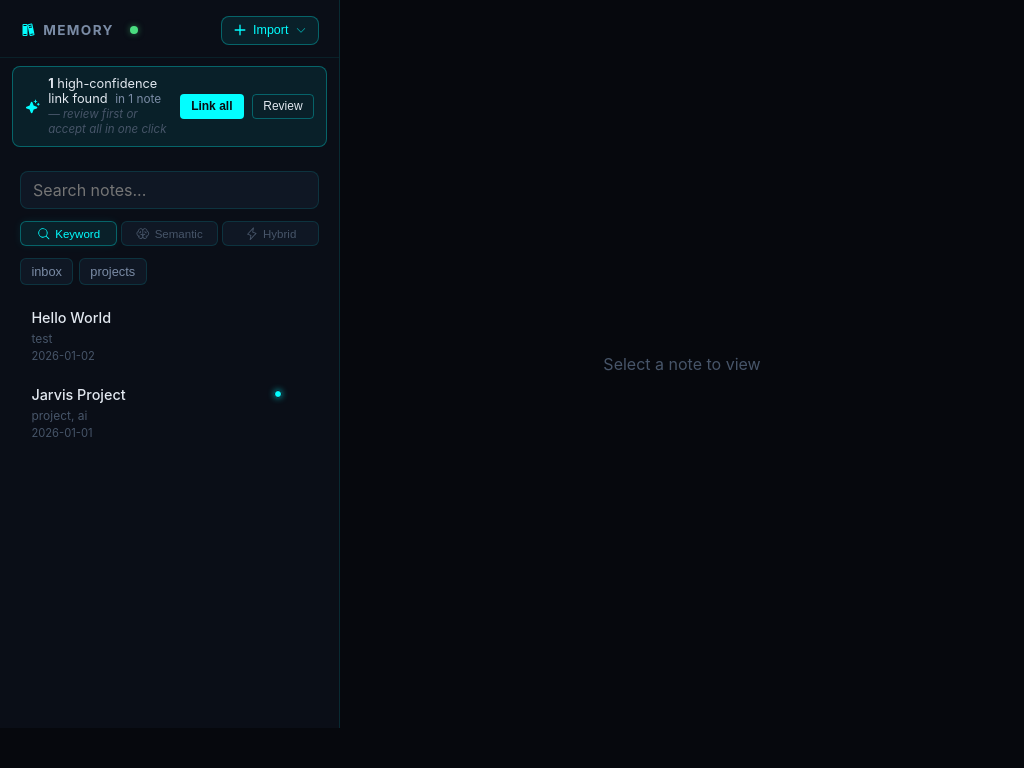
Test case: pages/memory.vue › opens the first pending Smart Connect note from the bulk review banner
Click the button "Review" at (283, 106), box [252,94,314,119]
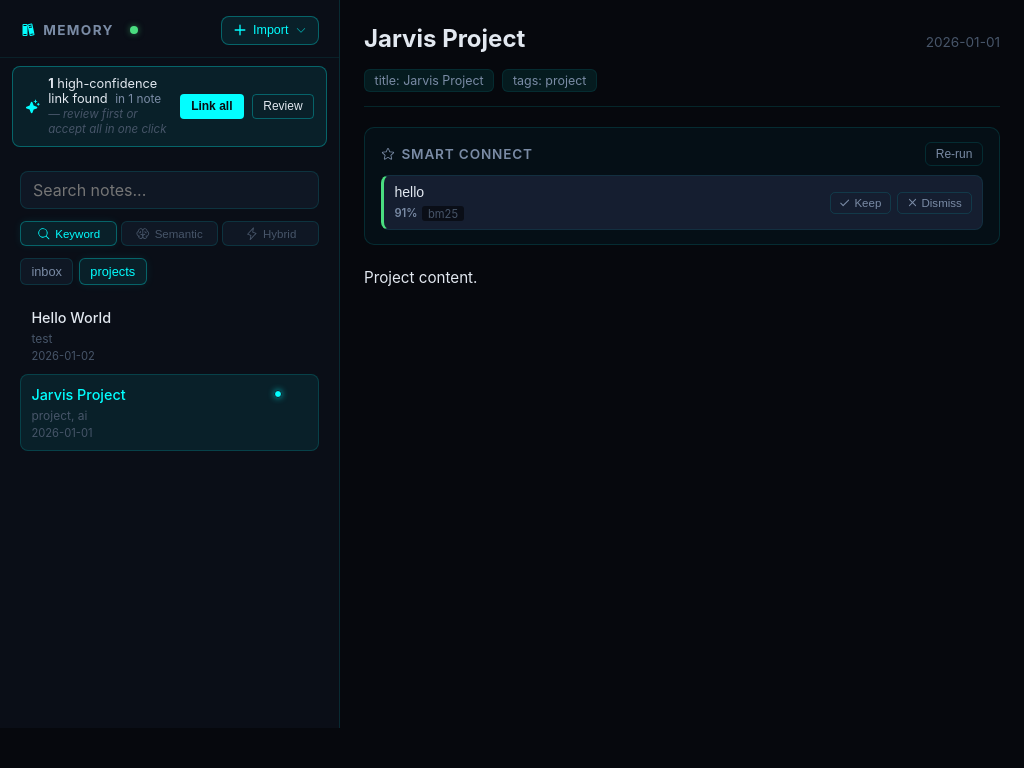
Expected: the list item with class "note-list__item--active" shows "Jarvis Project", [31,386,126,403]
Result: the heading with class "note-viewer__title" reads "Jarvis Project" at [364,24,525,53]
